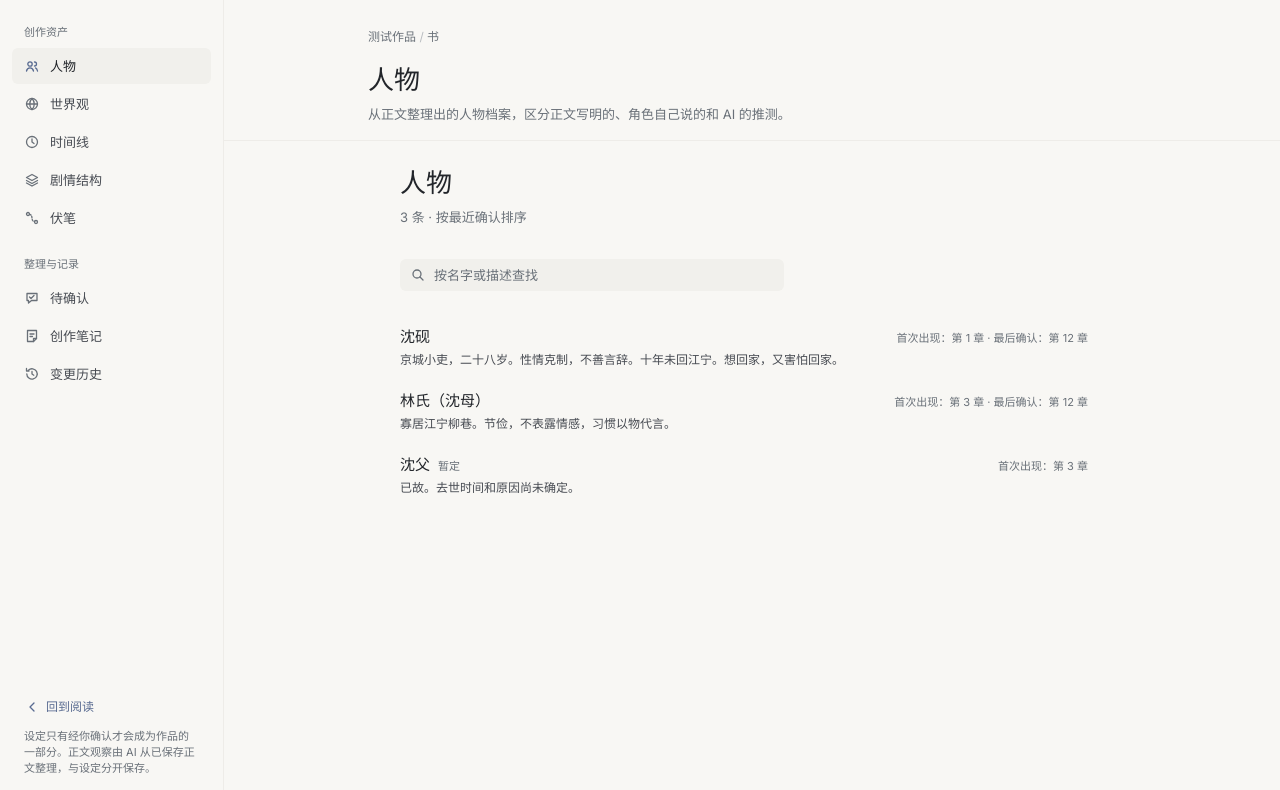
Test: BookView V2.1 layout › shows demo entry details after selecting an entity
Click the button "沈砚 ". click: (415, 337)
box: x1=392 y1=315 x2=1096 y2=379
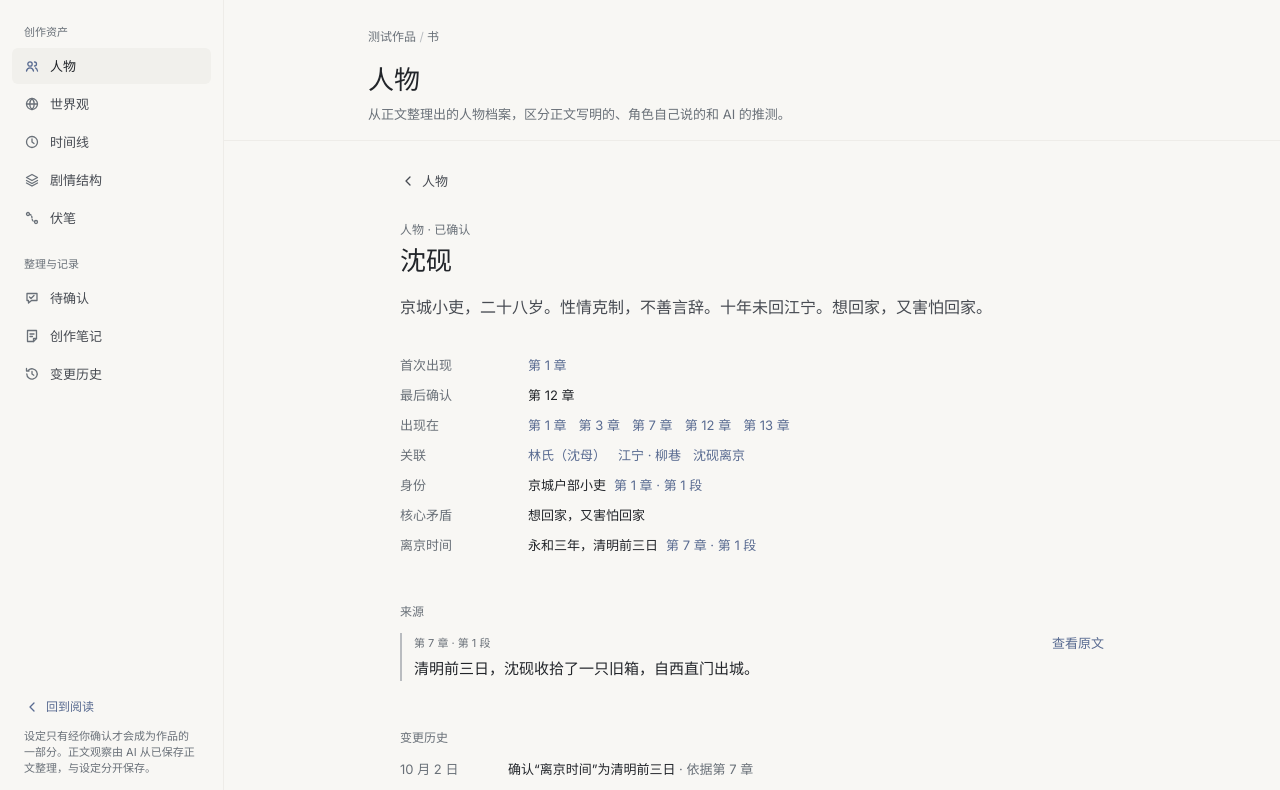
Expected: the heading "沈砚" is shown, x1=400 y1=247 x2=452 y2=276
